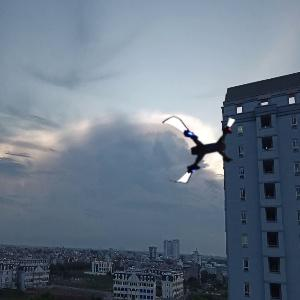drone: (162, 113, 239, 190)
